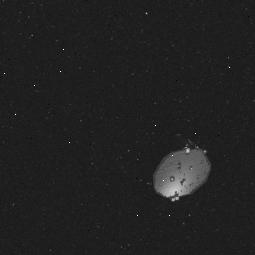lisa_pathfinder: (133, 133, 223, 206)
